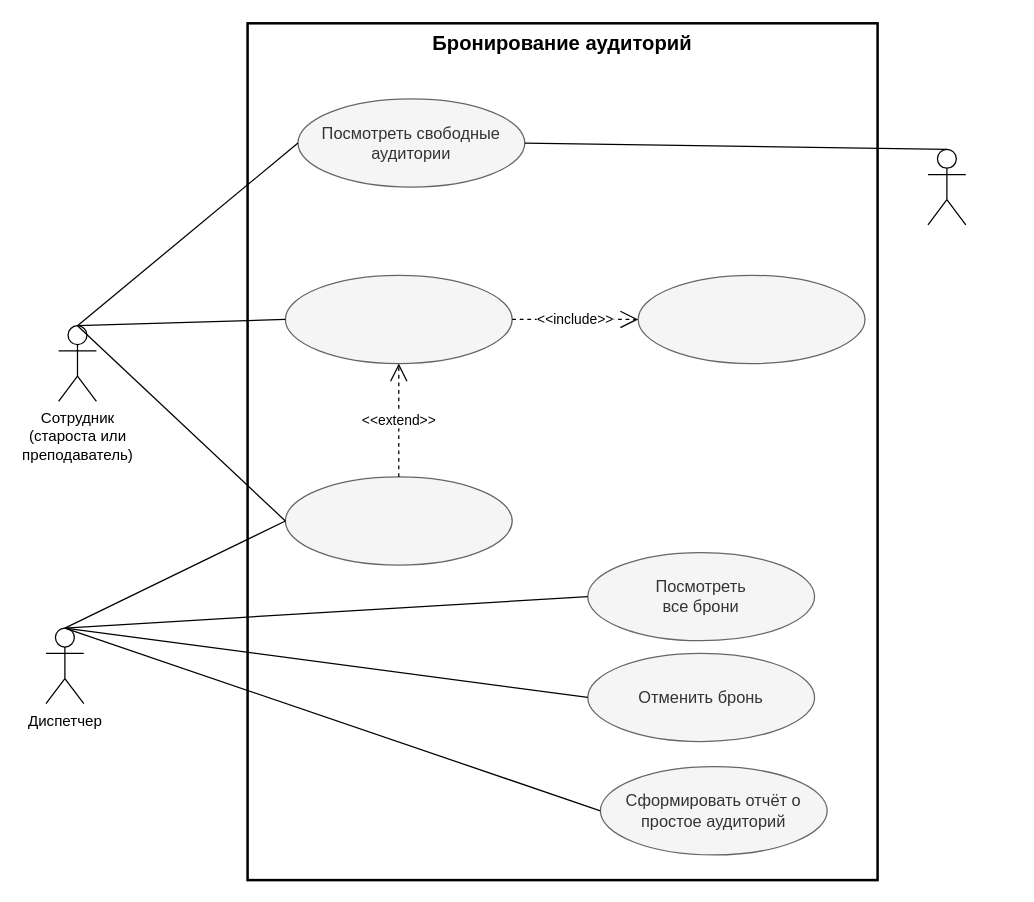
This 1034x902 diagram has some shape labels left out. The centre of each missing label's shape, as x and y in pixels:
Забронировать аудиторию: the point at 398,319
Заказать оборудование: the point at 398,520
Проверить доступность аудитории: the point at 751,319
Университетское расписание (внешняя система): the point at 946,186
